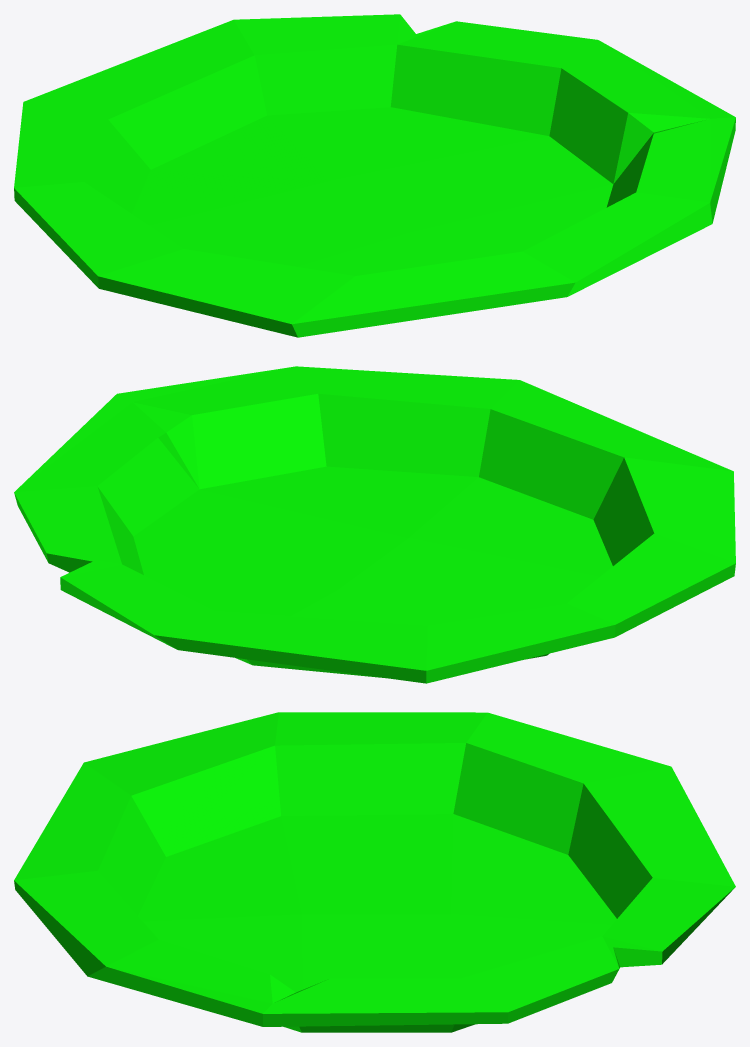
File: SM_Plate_Pewter_A.fbx
3 renders of one model, top to bottom at view 1: azimuth 30°, elevation 25°; view 2: azimuth 150°, elevation 25°; view 3: azimuth 270°, elevation 25°, orthographic. The views are drawn at different scales.
Visible parts, largest first — view 1: plate-pewter-a; view 2: plate-pewter-a; view 3: plate-pewter-a.
Boxes of the visible parts, x1,y1,x2,y2 form: plate-pewter-a: [14, 14, 735, 337]; plate-pewter-a: [14, 366, 735, 683]; plate-pewter-a: [14, 712, 735, 1032].
Bounding box in the file's own units: 0.3134 × 0.0323 × 0.3057.
